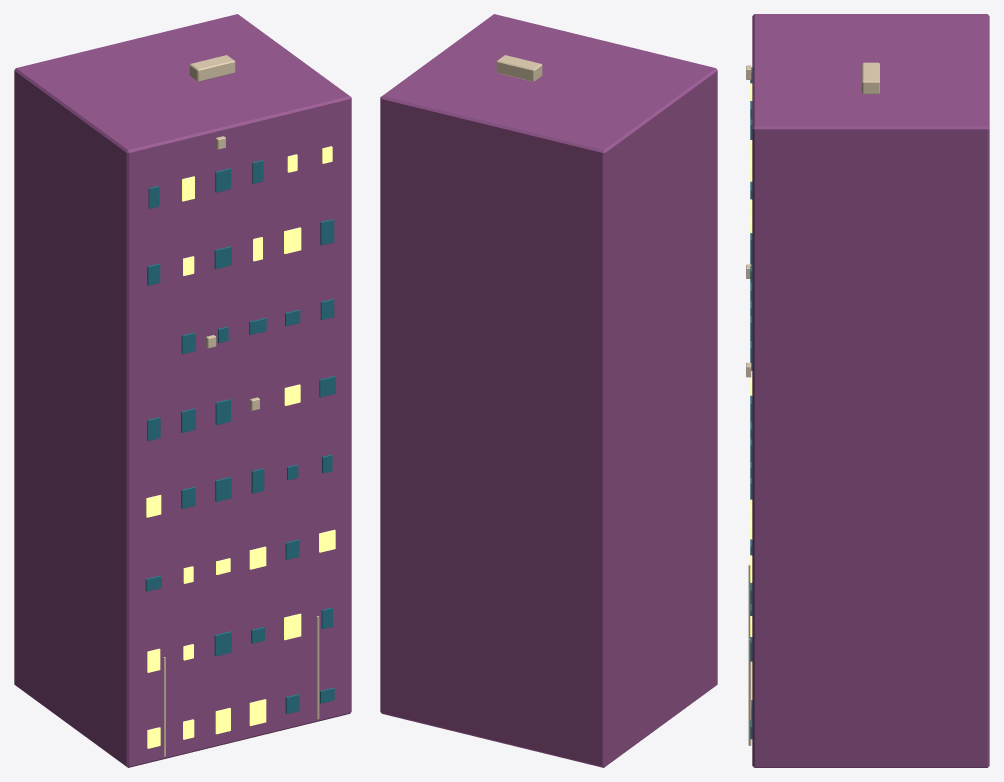
Rendered from building_004_seed11.glb.
3 views of the same model, side by side, from view 1: azimuth 30°, elevation 25°; view 2: azimuth 150°, elevation 25°; view 3: azimuth 270°, elevation 25° (orthographic). The views are drawn at different scales.
Visible parts, largest first — view 1: building_004_seed11; view 2: building_004_seed11; view 3: building_004_seed11.
Boxes of the visible parts, x1=… form: building_004_seed11: x1=14, y1=14, x2=351, y2=767; building_004_seed11: x1=380, y1=14, x2=717, y2=767; building_004_seed11: x1=746, y1=14, x2=989, y2=767.
Bounding box in the file's own units: 9.34 × 24.95 × 8.41.
